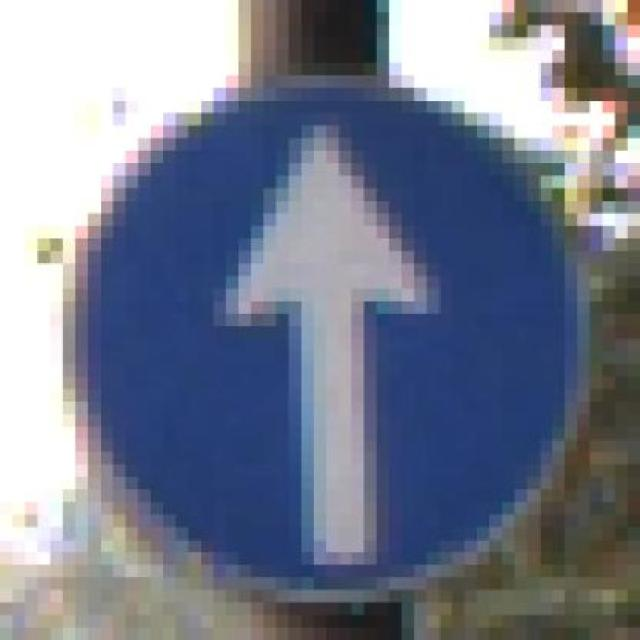Straight Ahead Only: (62, 75, 590, 602)
